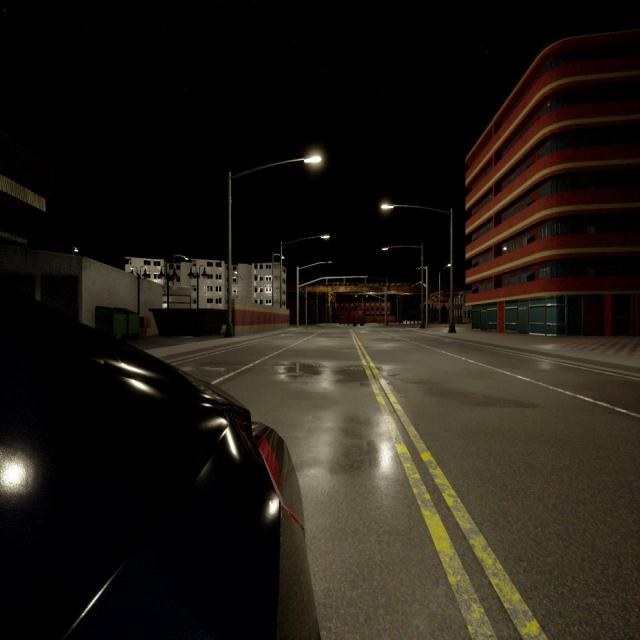Vehicle: (0, 298, 314, 638), (352, 310, 366, 326), (338, 310, 349, 326)
traffic_light: (344, 278, 346, 284), (364, 277, 366, 283), (366, 294, 368, 297), (326, 279, 327, 284), (356, 293, 356, 297)
